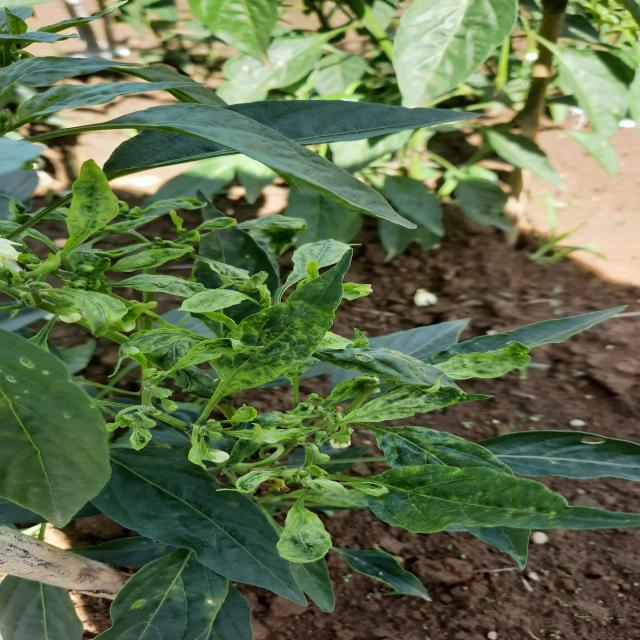thrips: (372, 451, 628, 552), (213, 243, 364, 395), (342, 384, 504, 434), (270, 496, 347, 582)
